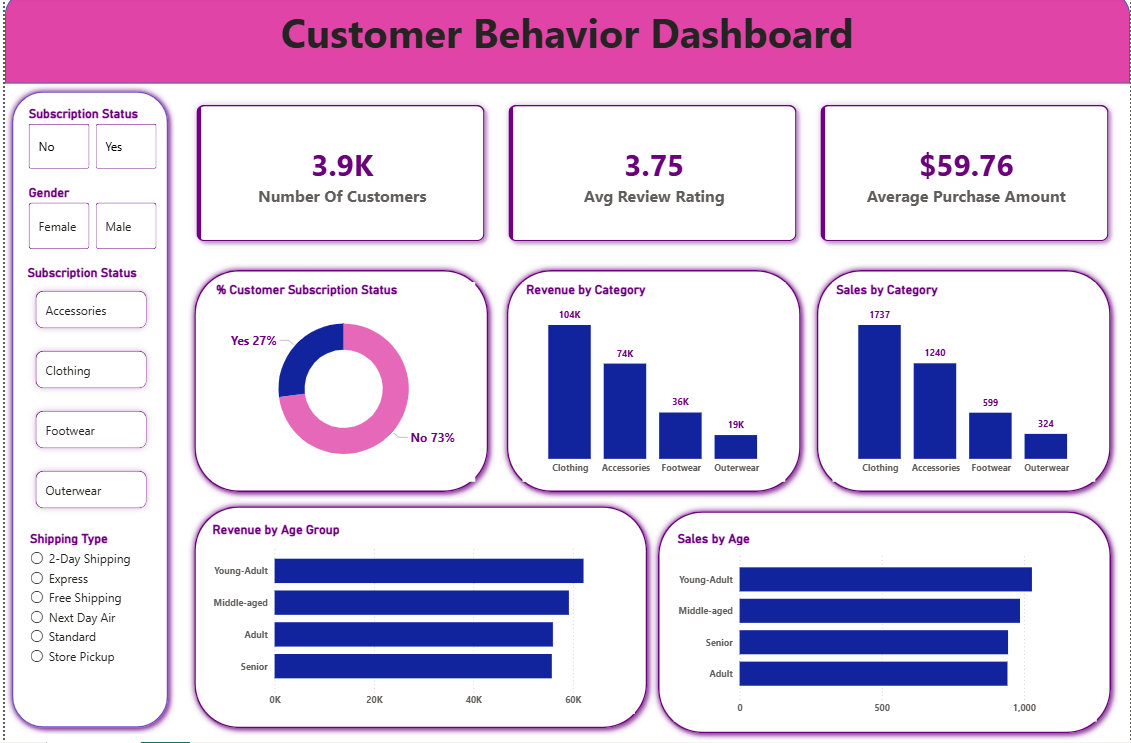

This screenshot's page, from the dashboard's own definition file:
{"tool":"powerbi","page":{"name":"Page 1","canvas":[1500,1000],"ordinal":0},"visuals":[{"type":"cardVisual","fields":{"Data":["public customer.Number_of_customers","public customer.Avg review rating","public customer.Average purchase amount"]},"box":[226,122,1274,240],"z":0},{"type":"shape","box":[0,0,1500,122],"z":1000},{"type":"textbox","box":[0,12,1500,98],"z":2000},{"type":"shape","box":[244,362,410,314],"z":3000},{"type":"donutChart","title":"% Customer Subscription Status","fields":{"Category":["public customer.subscription_status"],"Y":["CountNonNull(public customer.customer_id)"]},"box":[276,386,350,266],"z":4000},{"type":"shape","box":[1074,362,410,314],"z":5000},{"type":"shape","box":[660,362,410,314],"z":6000},{"type":"columnChart","title":"Revenue by Category","fields":{"Category":["public customer.category"],"Y":["Sum(public customer.purchase_amount)"]},"box":[690,386,350,266],"z":7000},{"type":"shape","box":[244,676,622,314],"z":8000},{"type":"columnChart","title":"Sales by Category","fields":{"Category":["public customer.category"],"Y":["CountNonNull(public customer.customer_id)"]},"box":[1104,386,350,266],"z":9000},{"type":"shape","box":[0,123.3,226.7,866.7],"z":10000},{"type":"advancedSlicerVisual","title":"Subscription Status","fields":{"Values":["public customer.subscription_status"]},"box":[26,152,180,90],"z":11000},{"type":"advancedSlicerVisual","title":"Gender","fields":{"Values":["public customer.gender"]},"box":[26,256,180,92],"z":12000},{"type":"advancedSlicerVisual","title":"Subscription Status","fields":{"Values":["public customer.category"]},"box":[25,362.5,180,345],"z":13000},{"type":"listSlicer","title":"Shipping Type","fields":{"Values":["public customer.shipping_type"]},"box":[28,718,174,244],"z":14000},{"type":"clusteredBarChart","title":"Revenue by Age Group ","fields":{"Category":["public customer.age_criteria"],"Y":["Sum(public customer.purchase_amount)"]},"box":[272,706,568,256],"z":15000},{"type":"shape","box":[862,684,622,314],"z":16000},{"type":"clusteredBarChart","title":"Sales by Age ","fields":{"Category":["public customer.age_criteria"],"Y":["CountNonNull(public customer.customer_id)"]},"box":[892,718,564,254],"z":17000}]}

Visuals, with their boxes in screenshot pixels (x1, y1, x2, y2), scaled from the page's 1500x1000 canvas onto the 1131x743 screenshot:
cardVisual - public customer.Number_of_customers x public customer.Avg review rating: [170,91,1130,269]
shape: [0,0,1130,91]
textbox: [0,9,1130,82]
shape: [184,269,493,502]
"% Customer Subscription Status" donutChart: [208,287,472,484]
shape: [810,269,1119,502]
shape: [498,269,807,502]
"Revenue by Category" columnChart: [520,287,784,484]
shape: [184,502,653,736]
"Sales by Category" columnChart: [832,287,1096,484]
shape: [0,92,171,736]
"Subscription Status" advancedSlicerVisual: [20,113,155,180]
"Gender" advancedSlicerVisual: [20,190,155,259]
"Subscription Status" advancedSlicerVisual: [19,269,155,526]
"Shipping Type" listSlicer: [21,533,152,715]
"Revenue by Age Group " clusteredBarChart: [205,525,633,715]
shape: [650,508,1119,742]
"Sales by Age " clusteredBarChart: [673,533,1098,722]
